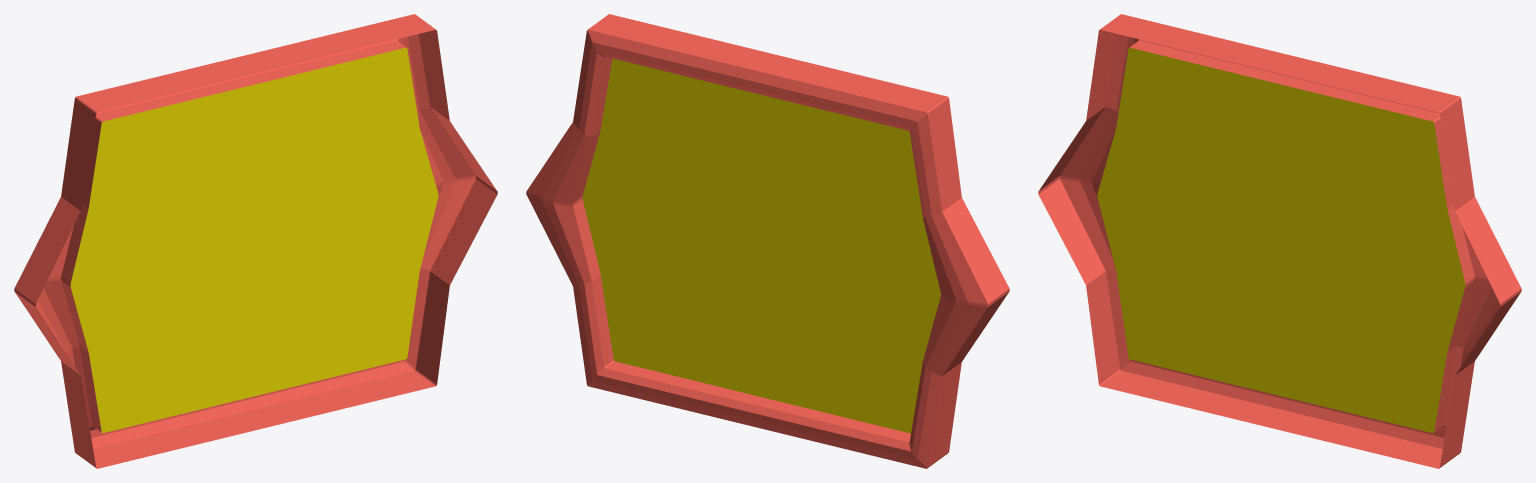
File: plaque.fbx
3 views of the same model, side by side, from view 1: azimuth 30°, elevation 25°; view 2: azimuth 150°, elevation 25°; view 3: azimuth 330°, elevation 25° (orthographic).
Visible parts, largest first — view 1: plaque; view 2: plaque; view 3: plaque.
Part boxes in pixels (x1=…): plaque: x1=14, y1=14, x2=497, y2=468; plaque: x1=526, y1=14, x2=1009, y2=468; plaque: x1=1038, y1=14, x2=1521, y2=468.
Size of the model in its own units: 126 by 92.77 by 11.45.
